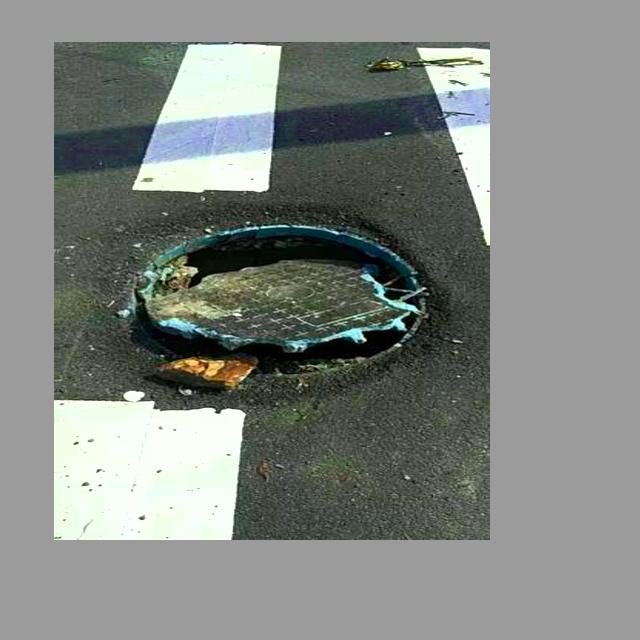broke: (68, 199, 476, 403)
